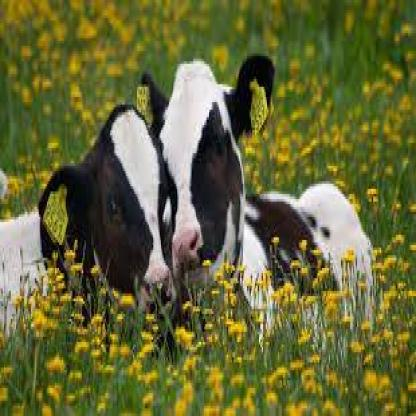cow: (138, 52, 374, 328), (0, 104, 178, 339)
